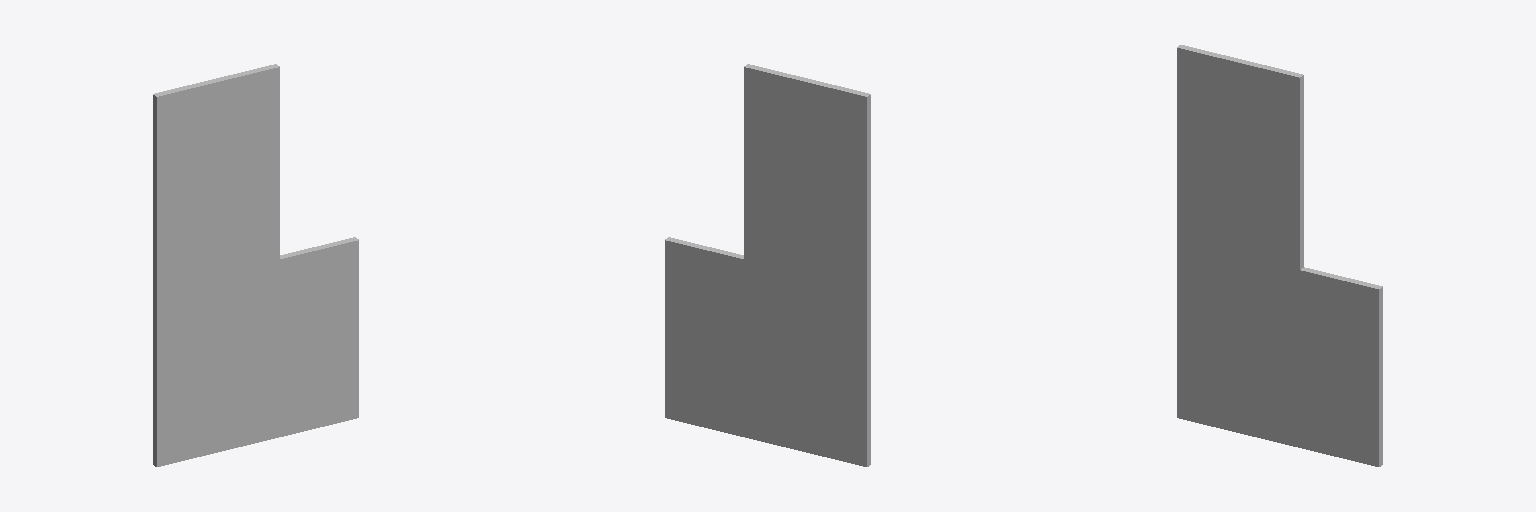
Rendered from track_core.obj.
The picture shows the model from 3 angles: view 1: azimuth 30°, elevation 25°; view 2: azimuth 150°, elevation 25°; view 3: azimuth 330°, elevation 25°; orthographic projection.
Parts seen in each view (by area): view 1: Cube.001; view 2: Cube.001; view 3: Cube.001.
Boxes of the visible parts, x1,y1,x2,y2 form: Cube.001: [153, 64, 358, 466]; Cube.001: [665, 64, 870, 466]; Cube.001: [1177, 45, 1382, 466].
Size of the model in its own units: 2.86 by 5 by 0.1.